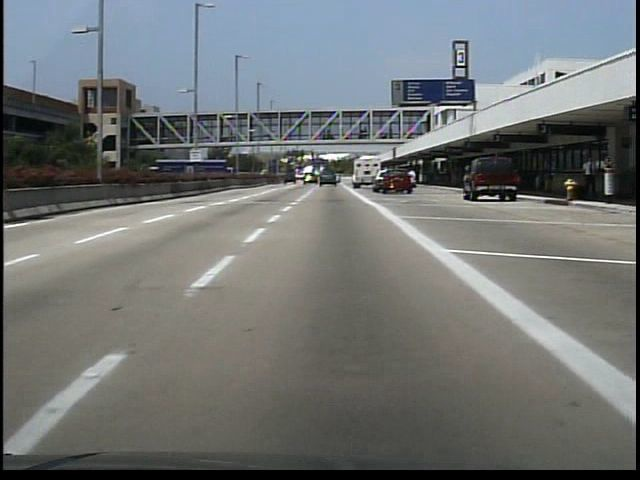person: (574, 152, 599, 201), (405, 169, 419, 191)
